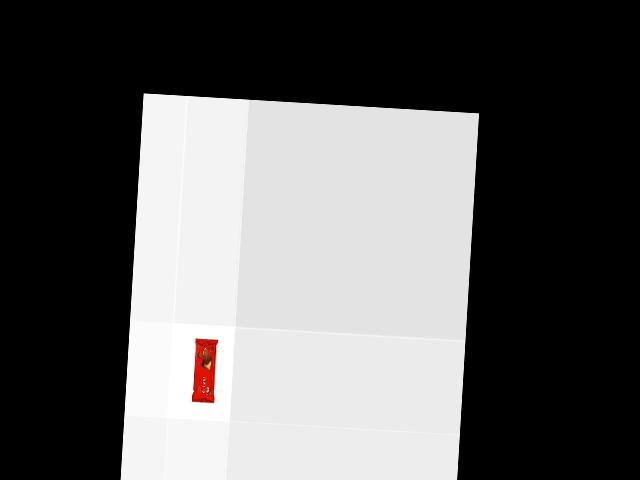chocolate: (190, 338, 217, 405)
